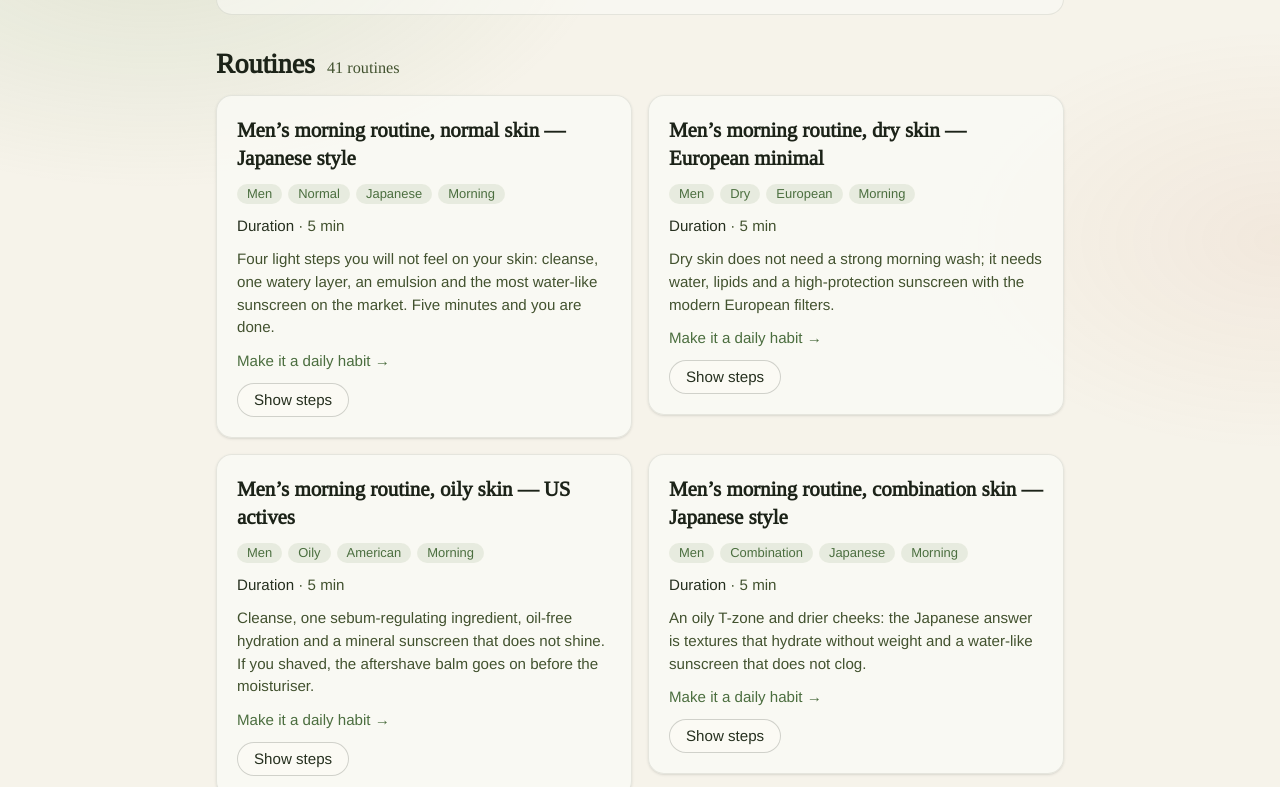
it: <SkincarePage> with the bundled source › expands a routine to show its steps in order with the product-type names, optional marks and notes; collapses again
The width and height of the screenshot is (1280, 787).
(page scrolled)
Expected: the text "41 routines" is shown, 327,57 -> 400,77
Expected: the 1st text with test id "routine-duration" reads "5 min", 308,217 -> 345,234
Click the 2nd button "Show steps": (293, 400) 237,383 -> 349,417
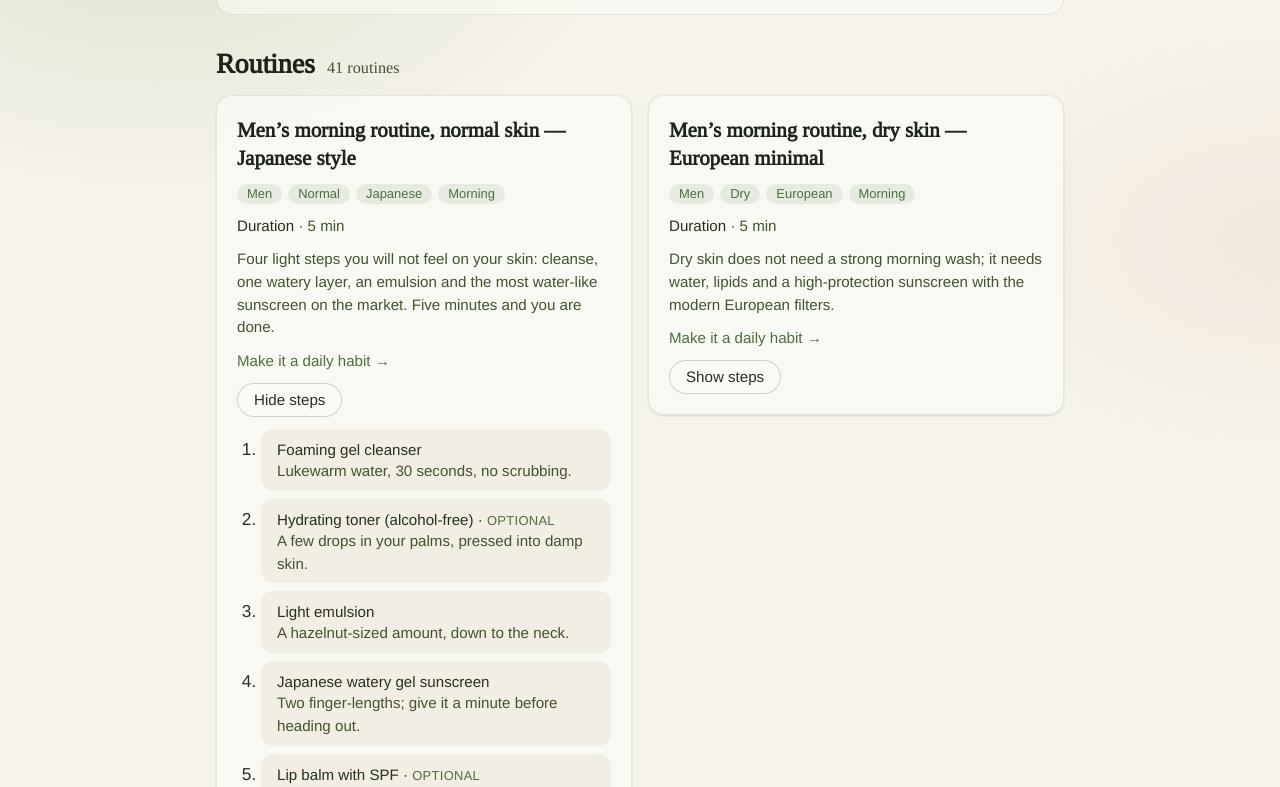
Now the button named "Show steps" is expanded
Now the button named "Show steps" reads "Hide steps"
Now the list item that starts with "Foaming gel cleanser" is shown, box 277,441 -> 422,458
Click the button named "Show steps": (290, 400) 237,383 -> 342,417
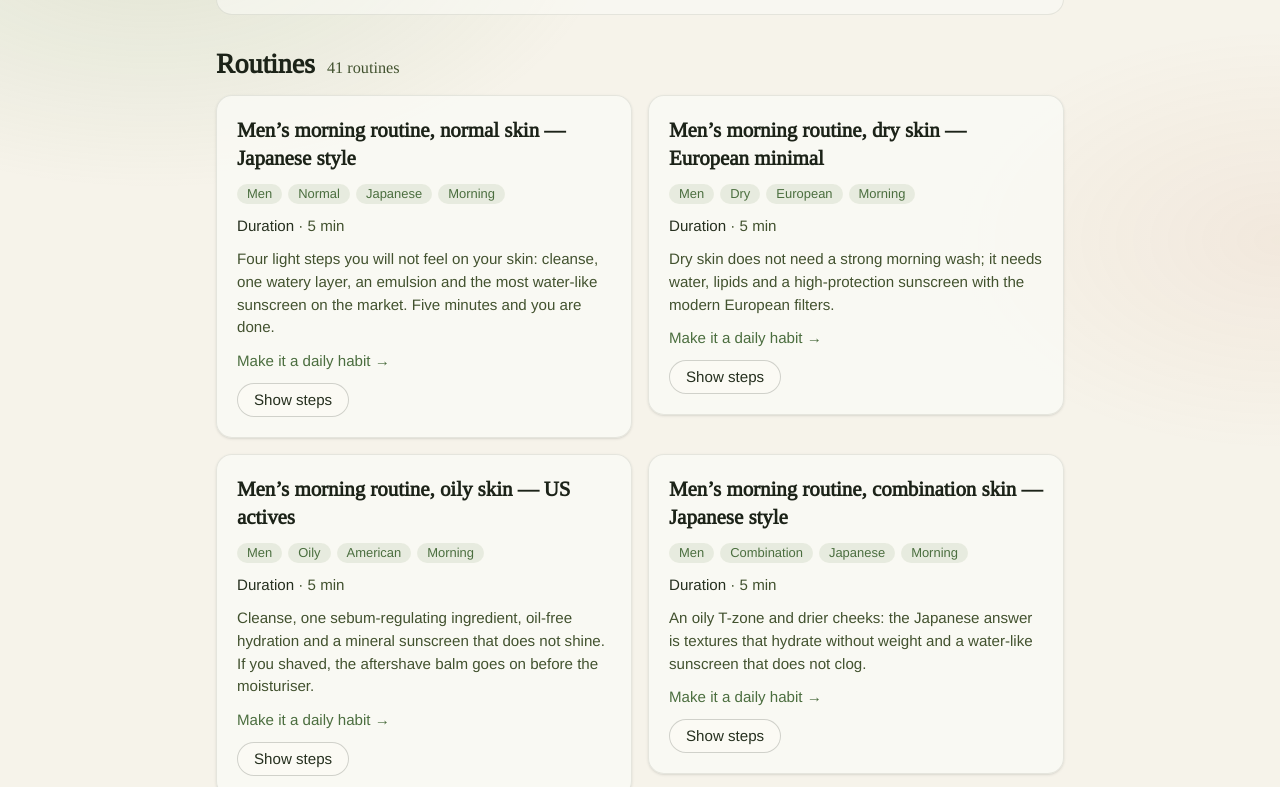
Now the 2nd button "Show steps" is collapsed, box 237,383 -> 349,417
